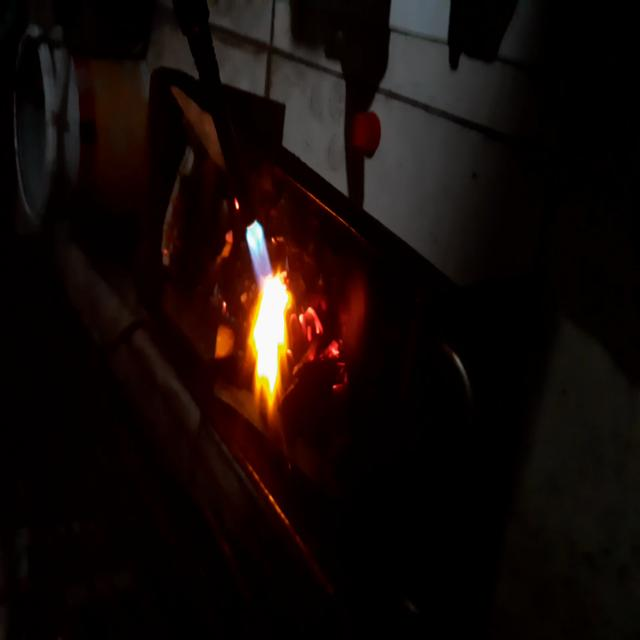Fire: (233, 209, 308, 424), (302, 285, 358, 437)
